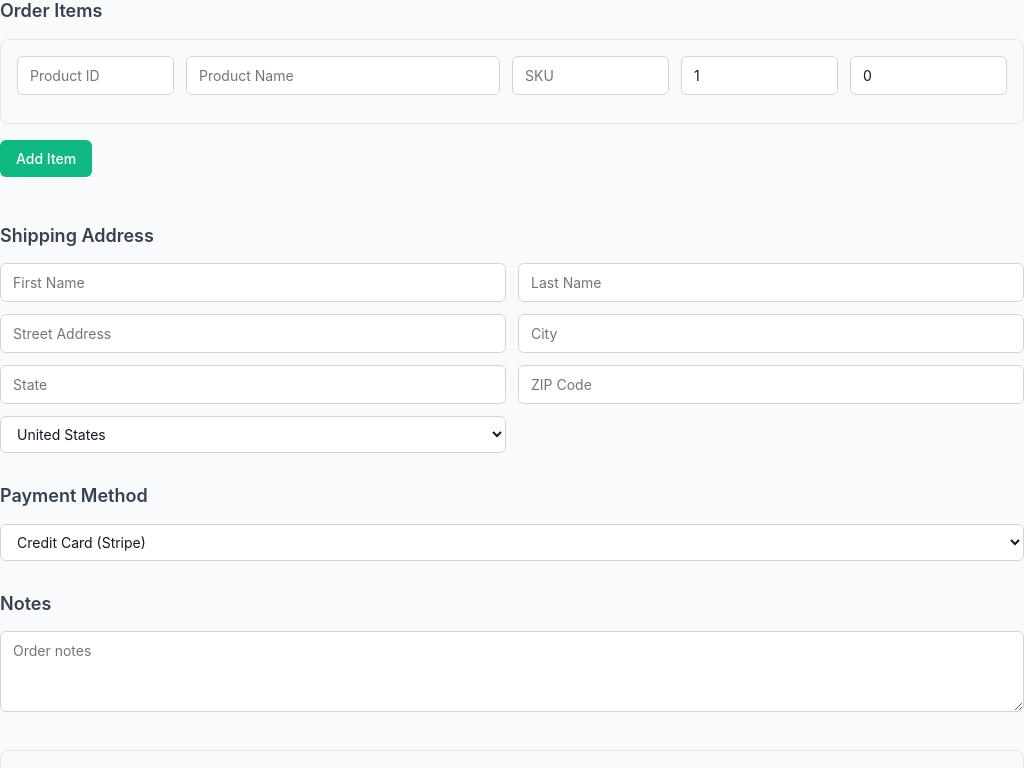
Test case: OrderForm › should calculate totals correctly
Replace the text in the 1st number field with placeholder "Quantity" with "2". click: {"x": 760, "y": 75}
box: [681,56,838,94]
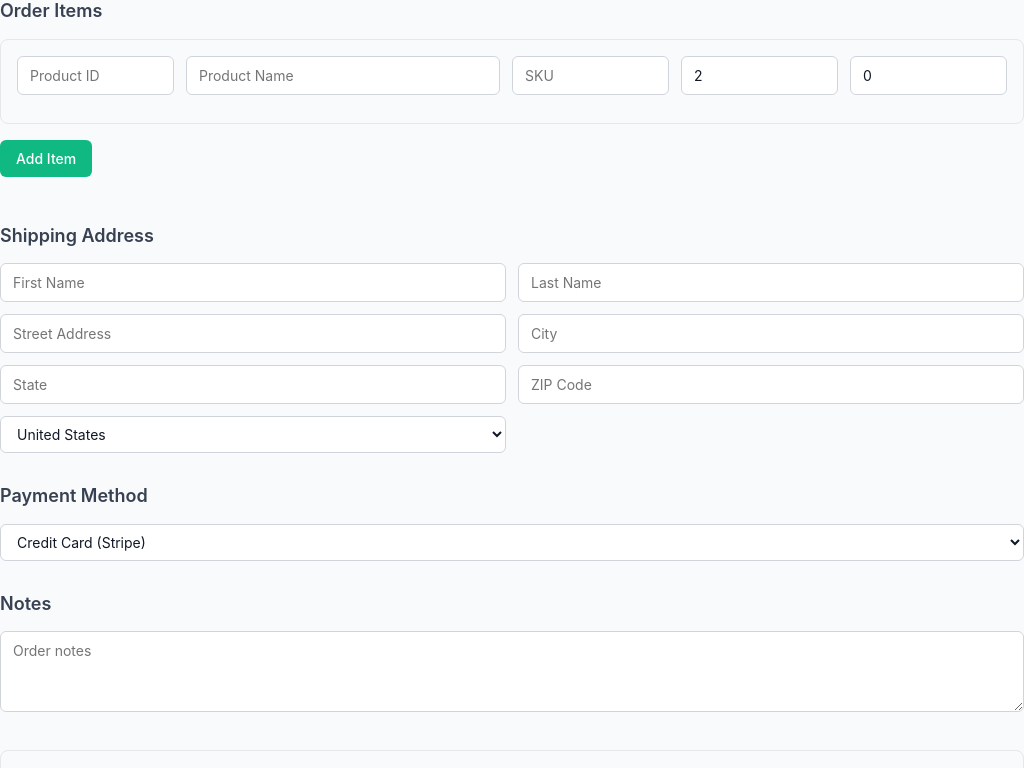
Replace the text in the 2nd number field with placeholder "Unit Price" with "10.00". click: {"x": 928, "y": 75}
box: [850,56,1007,94]
(page scrolled)
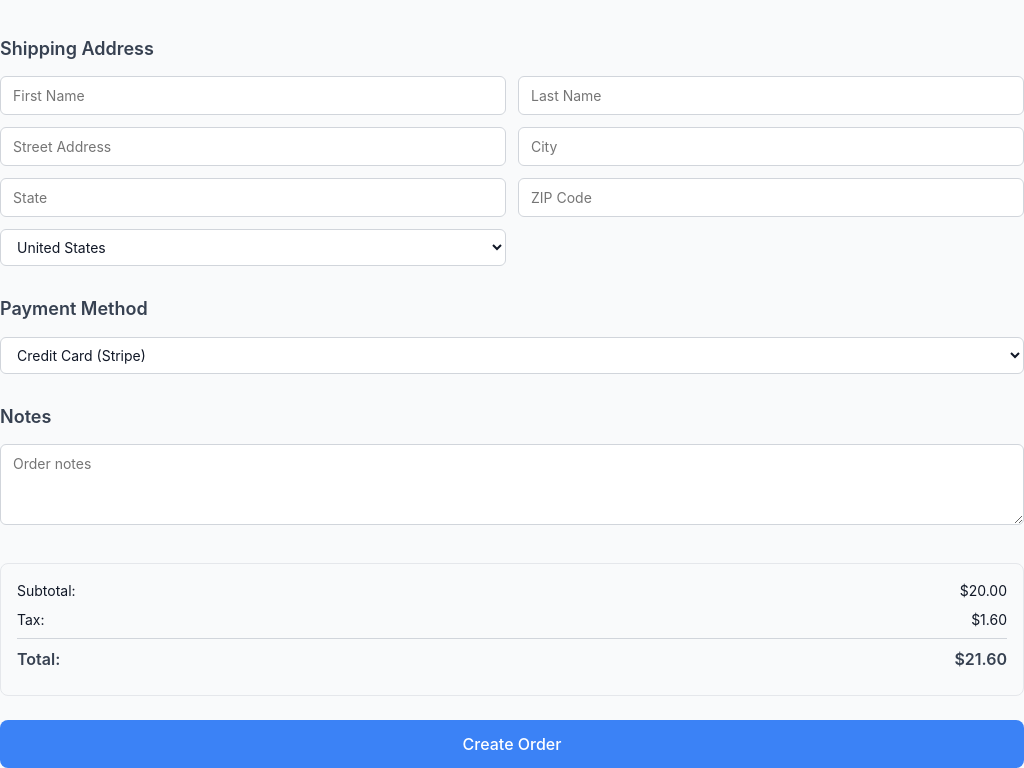
Now the text "$20.00" is shown, box [960,580,1007,601]
Now the text "$1.60" is shown, box [971,609,1007,630]
Now the text "$21.60" is shown, box [954,647,1007,671]
